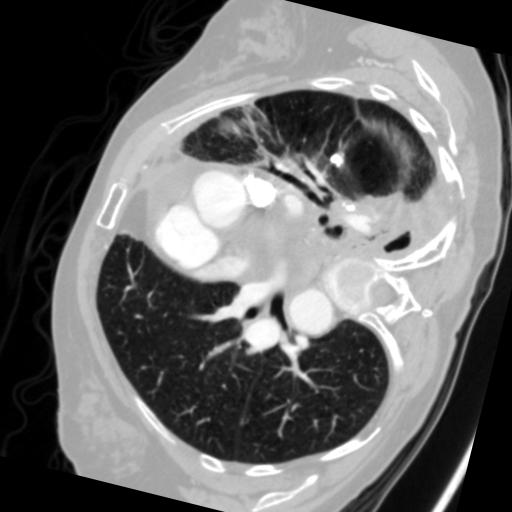nodule: (327, 148, 348, 169)
